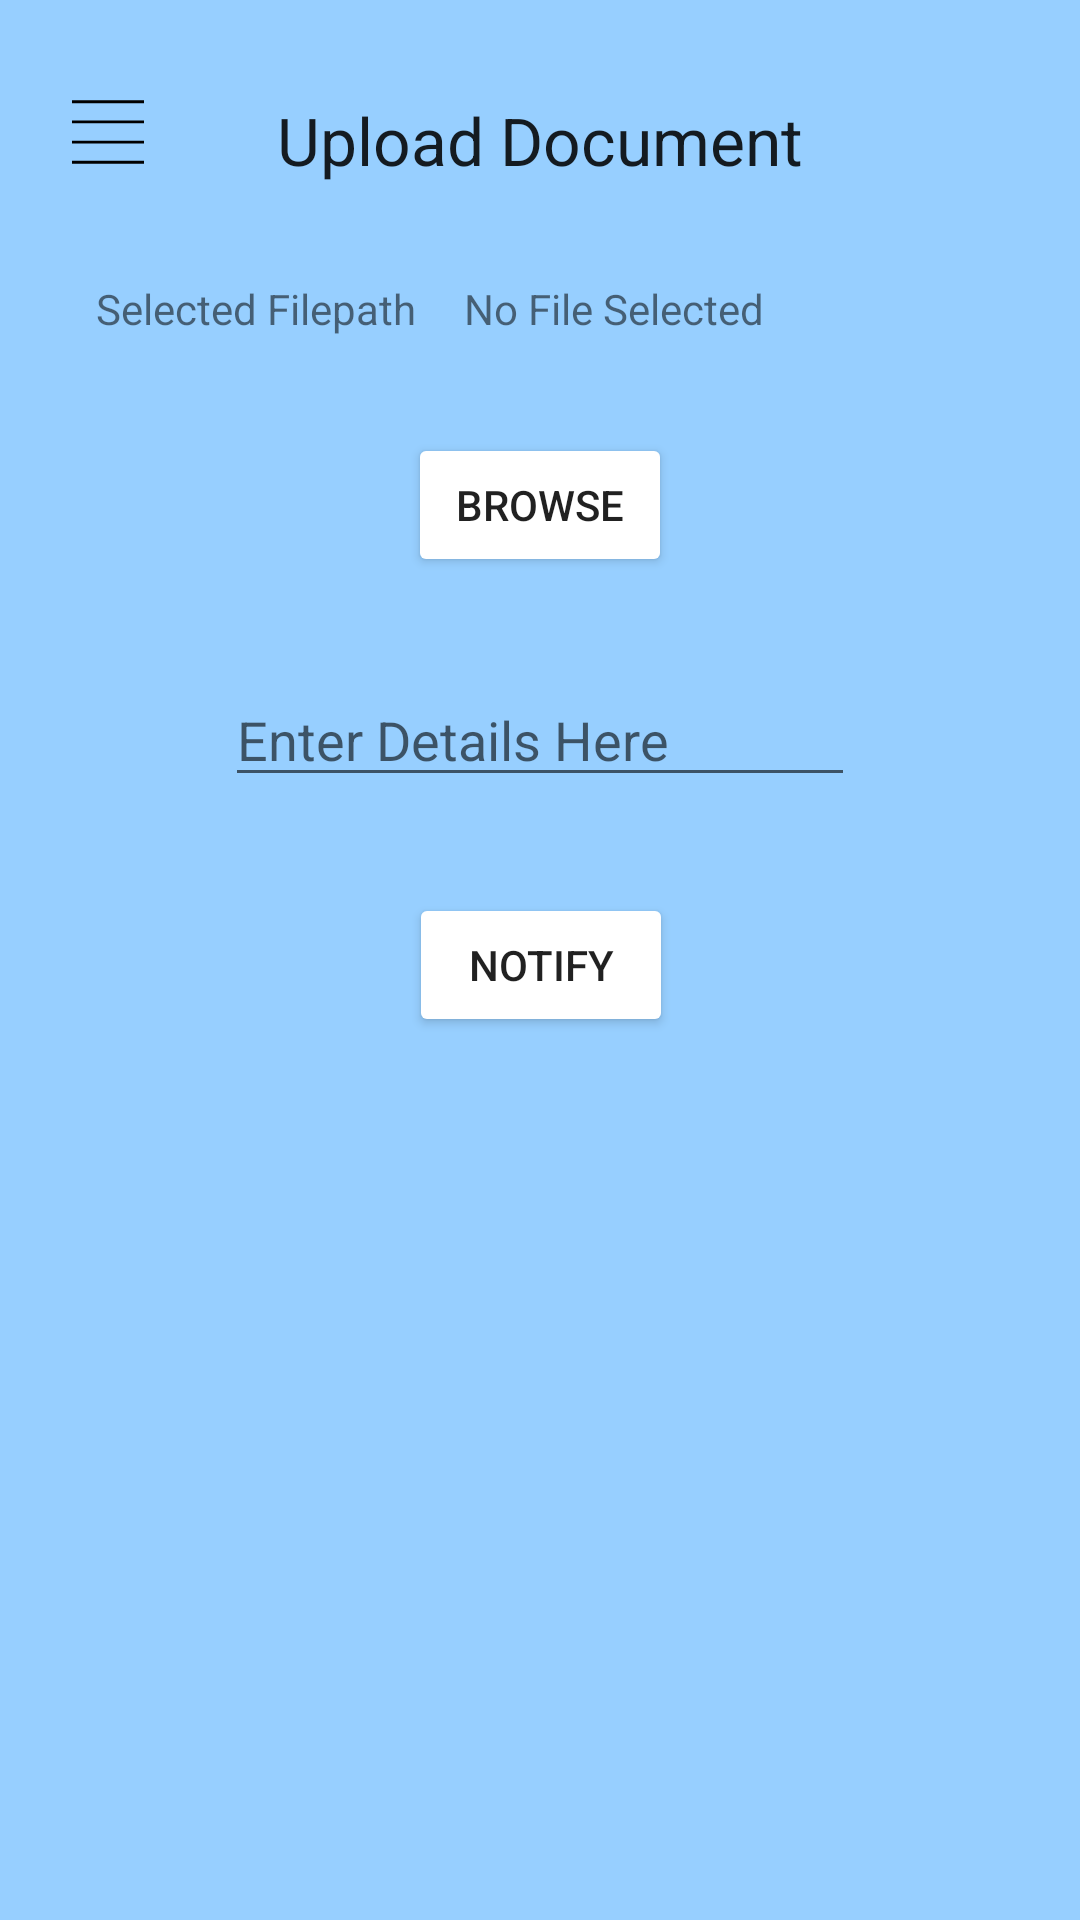

Screen size 1080×1920. Icon name, then its box in pixels as {"x1": x1, "y1": y1, "x2": x2, "y2": y2}:
menu: {"x1": 72, "y1": 100, "x2": 144, "y2": 164}
